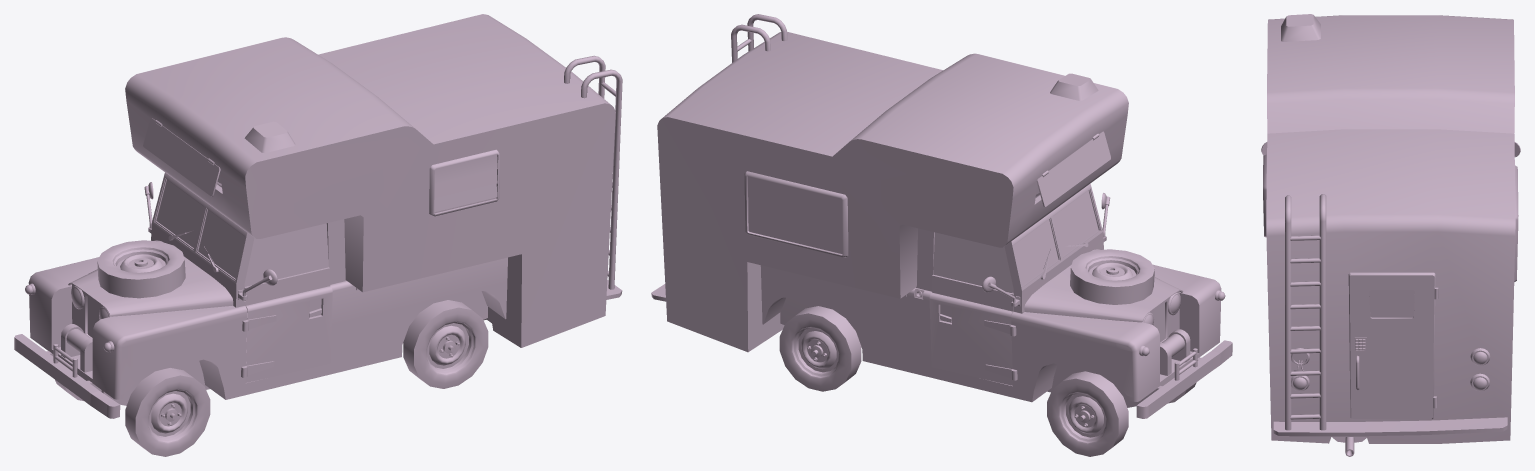
The model's file is campervan.fbx.
The picture shows the model from 3 angles, left to right: view 1: azimuth 30°, elevation 25°; view 2: azimuth 150°, elevation 25°; view 3: azimuth 270°, elevation 25°; orthographic projection. The views are drawn at different scales.
Parts seen in each view (by area): view 1: campervan_reference; view 2: campervan_reference; view 3: campervan_reference.
Part boxes in pixels (left/top/right/bottom): campervan_reference: left=14, top=14, right=622, bottom=456; campervan_reference: left=651, top=14, right=1232, bottom=456; campervan_reference: left=1261, top=14, right=1520, bottom=456.
Size of the model in its own units: 23880 by 13585 by 10252.
